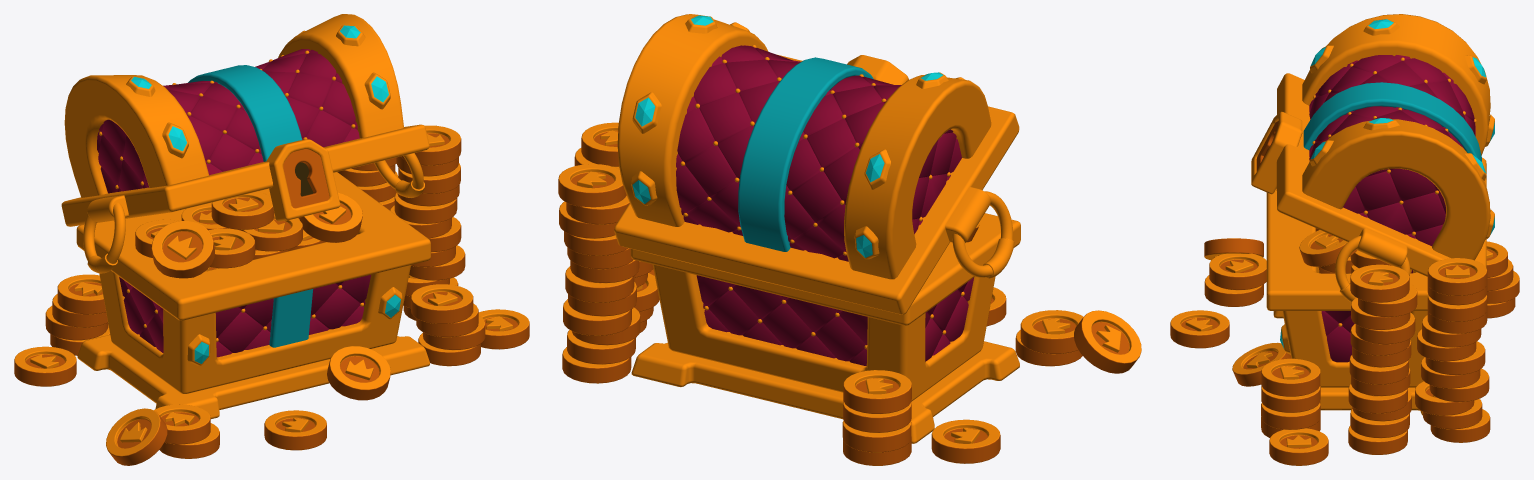
The model's file is chest.glb.
The picture shows the model from 3 angles, left to right: view 1: azimuth 30°, elevation 25°; view 2: azimuth 150°, elevation 25°; view 3: azimuth 270°, elevation 25°; orthographic projection. The views are drawn at different scales.
Parts seen in each view (by area): view 1: Circle.014_70, Cube.009_69, Cube.002_65, Plane.006_81, Circle.026_78, Cube.003_66, Plane.004_64, Circle.017_71, Circle.060_47, Circle.003_8, Circle.023_76, Circle.024_77 (+34 smaller); view 2: Circle.014_70, Plane.006_81, Circle.026_78, Cube.002_65, Plane.004_64, Cube.003_66, Circle.017_71, Cube.009_69, Circle.021_74, Circle.005_10, Circle.034_20, Circle.033_19 (+23 smaller); view 3: Circle.014_70, Circle.026_78, Plane.006_81, Cube.009_69, Plane.005_80, Circle.017_71, Cube.002_65, Circle.021_74, Circle.024_77, Circle.046_32, Circle.001_7, Circle.028_14 (+40 smaller).
Boxes of the visible parts, x1,y1,x2,y2 form: Circle.014_70: (64, 14, 403, 197); Cube.009_69: (76, 172, 430, 320); Cube.002_65: (99, 265, 410, 393); Plane.006_81: (163, 49, 359, 175); Circle.026_78: (61, 124, 429, 226); Cube.003_66: (77, 335, 429, 418); Plane.004_64: (119, 275, 370, 357); Circle.017_71: (188, 65, 302, 161); Circle.060_47: (151, 221, 214, 278); Circle.003_8: (327, 346, 390, 400); Circle.023_76: (83, 153, 424, 273); Circle.024_77: (266, 139, 340, 221); Circle.014_70: (617, 14, 991, 279); Plane.006_81: (676, 45, 901, 261); Circle.026_78: (614, 54, 1019, 314); Cube.002_65: (652, 264, 995, 401); Plane.004_64: (696, 275, 973, 365); Cube.003_66: (631, 341, 1019, 443); Circle.017_71: (738, 57, 873, 251); Cube.009_69: (630, 213, 1020, 325); Circle.021_74: (631, 15, 965, 259); Circle.005_10: (1074, 310, 1141, 373); Circle.034_20: (931, 419, 1000, 463); Circle.033_19: (843, 370, 911, 414); Circle.014_70: (1302, 14, 1490, 260); Circle.026_78: (1276, 73, 1486, 276); Plane.006_81: (1309, 55, 1476, 161); Cube.009_69: (1266, 188, 1428, 310); Plane.005_80: (1343, 168, 1445, 246); Circle.017_71: (1303, 82, 1481, 161); Cube.002_65: (1282, 269, 1427, 387); Circle.021_74: (1310, 19, 1494, 239); Circle.024_77: (1251, 111, 1302, 194); Circle.046_32: (1427, 258, 1487, 295); Circle.001_7: (1170, 310, 1229, 348); Circle.028_14: (1261, 358, 1320, 396).
Size of the model in its own units: 5 by 3.22 by 3.54.
